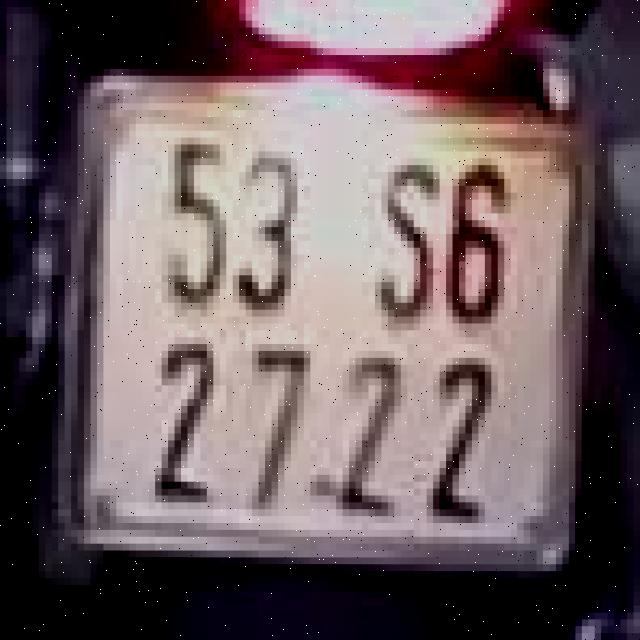2: (417, 330, 495, 544), (145, 327, 223, 506), (330, 330, 401, 516)
3: (230, 124, 300, 316)
5: (158, 127, 230, 320)
6: (446, 148, 511, 327)
7: (242, 327, 314, 513)
S: (372, 138, 443, 330)
